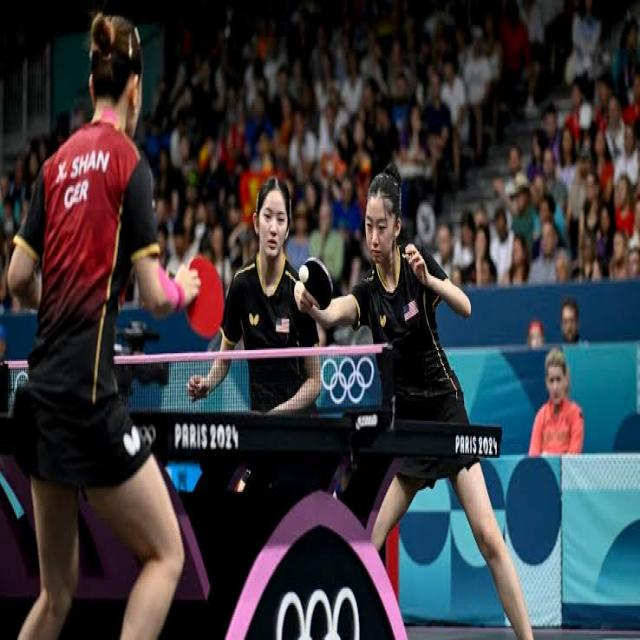TT Net: (0, 342, 391, 427)
TT Racket: (177, 244, 229, 340), (296, 243, 340, 319)
